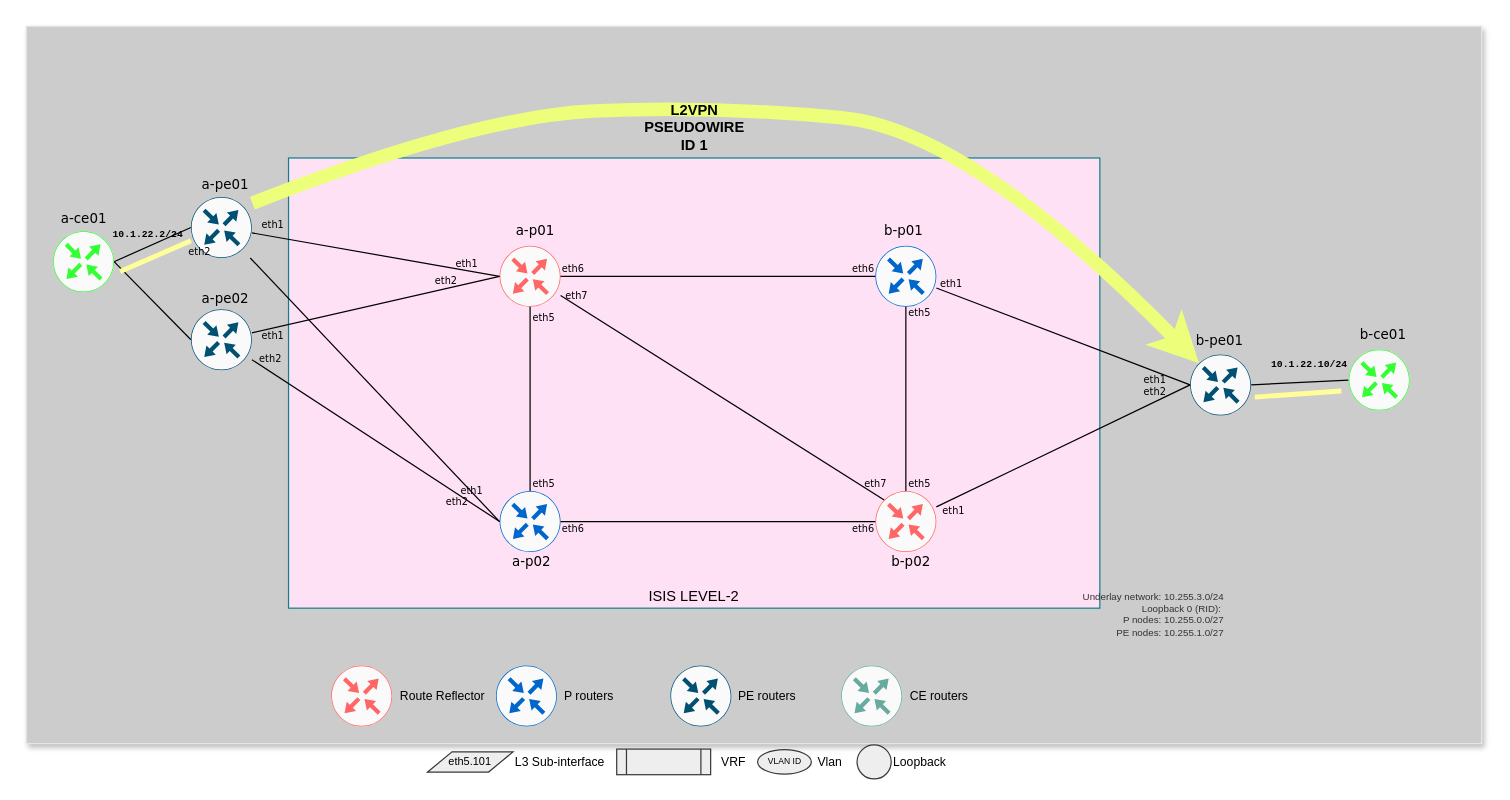
The diagram is 1510 pixels wide and 800 high, and some of its shapes have lost their labels. The shapes that lost their labels are listed below. From the top down, each one's centre as x and y in pixels, then its label:
point (663, 761): VRF NAME
point (873, 761): Lo1018
